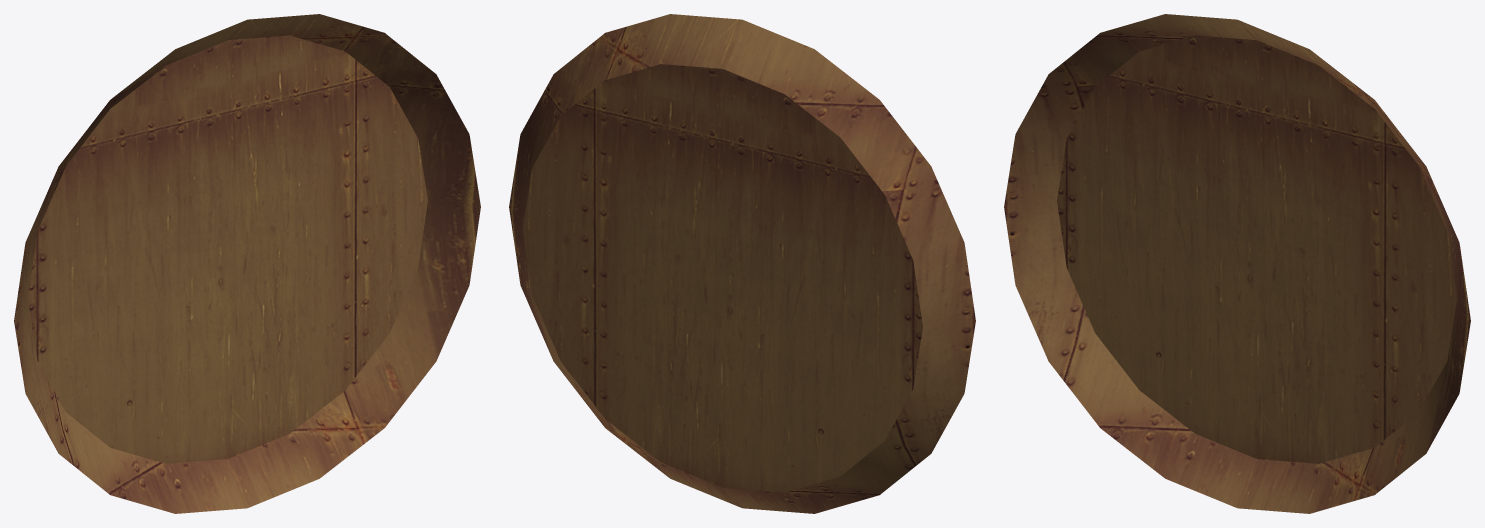
The model's file is SteamHouse_glass_indoor.fbx.
3 views of the same model, side by side, from view 1: azimuth 30°, elevation 25°; view 2: azimuth 150°, elevation 25°; view 3: azimuth 330°, elevation 25° (orthographic).
Visible parts, largest first — view 1: SteamHouse_glass_indoor; view 2: SteamHouse_glass_indoor; view 3: SteamHouse_glass_indoor.
Boxes of the visible parts, <box> form: SteamHouse_glass_indoor: <box>14,14,480,513</box>; SteamHouse_glass_indoor: <box>509,14,975,513</box>; SteamHouse_glass_indoor: <box>1004,14,1470,513</box>.
Size of the model in its own units: 2.95 by 2.95 by 0.2143.
